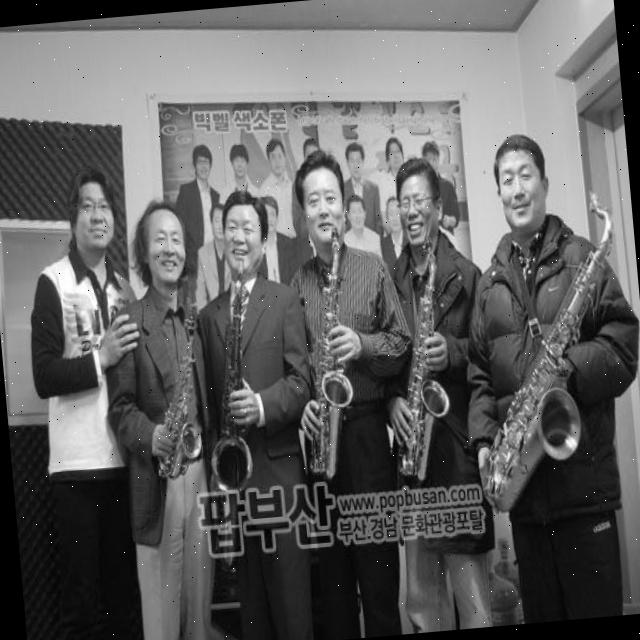saxophone: (454, 187, 639, 513), (183, 258, 277, 562), (377, 230, 462, 488), (286, 224, 364, 484), (142, 293, 222, 480)
